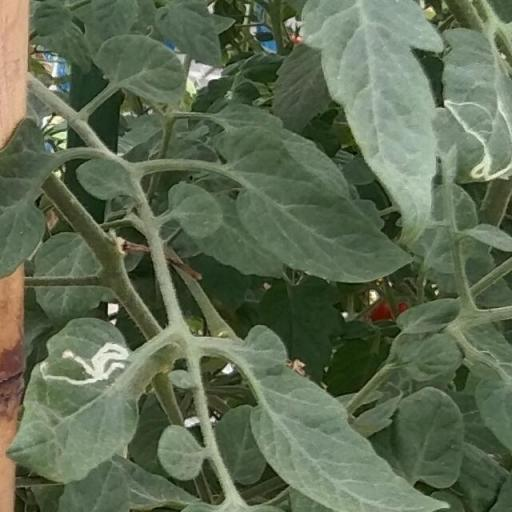Healthy: (245, 322, 449, 512), (297, 0, 443, 236), (219, 126, 417, 282), (367, 387, 465, 490), (92, 35, 188, 109), (169, 181, 223, 240), (157, 424, 204, 481), (76, 157, 132, 201)
Leaf_Miner: (5, 315, 143, 485), (438, 26, 512, 185)
